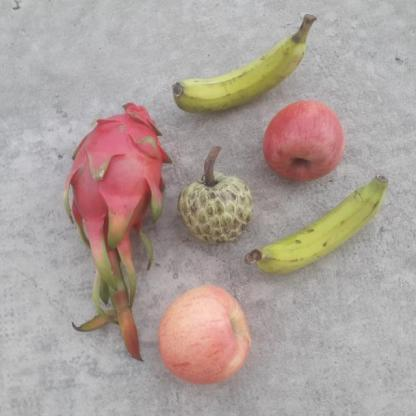annona: (178, 146, 256, 245)
apple: (157, 286, 254, 384), (263, 100, 346, 183)
banana: (171, 15, 317, 112), (256, 174, 391, 274)
pitaya: (63, 102, 173, 247)
